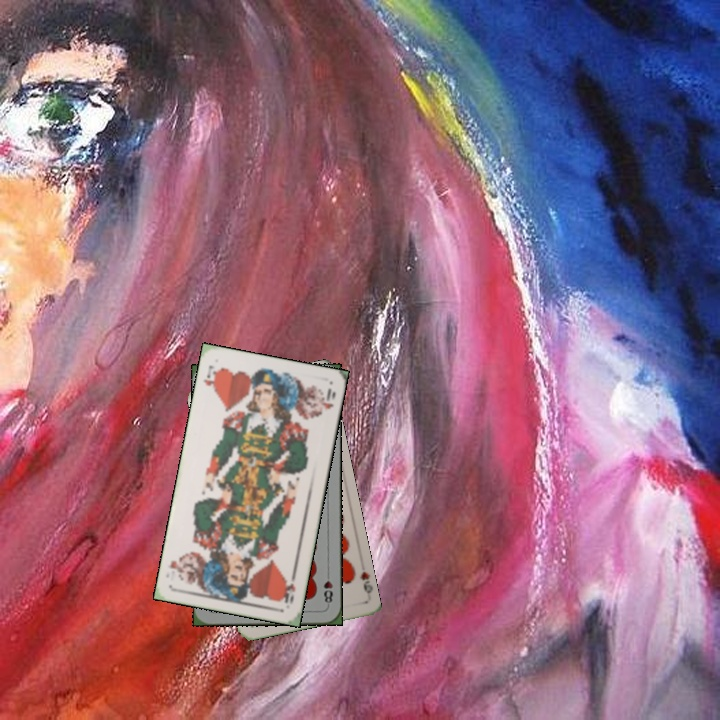H8: (320, 568, 336, 608)
H9: (355, 567, 374, 596)
HO: (280, 568, 299, 606), (200, 361, 221, 394)
